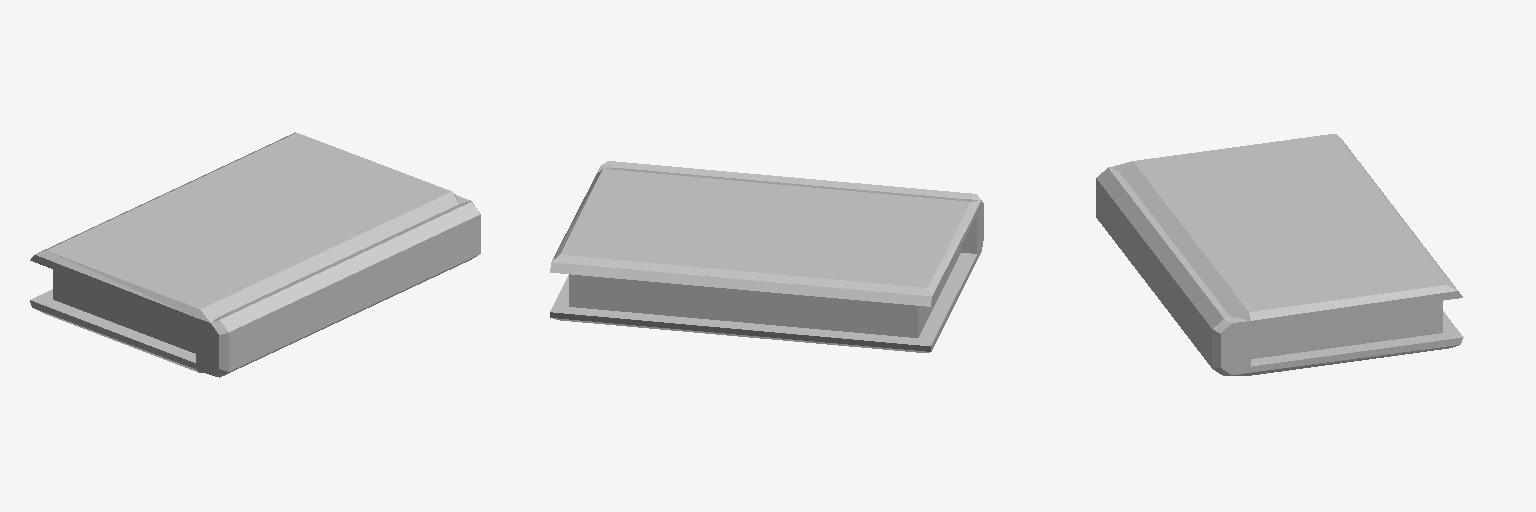
File: book.obj
3 views of the same model, side by side, from view 1: azimuth 30°, elevation 25°; view 2: azimuth 150°, elevation 25°; view 3: azimuth 270°, elevation 25° (orthographic).
Visible parts, largest first — view 1: book37 items; view 2: book37 items; view 3: book37 items.
Part boxes in pixels (bbox=[...]): book37 items: bbox=[30, 132, 480, 377]; book37 items: bbox=[550, 161, 983, 352]; book37 items: bbox=[1096, 134, 1463, 375].
Size of the model in its own units: 2.63 by 0.4112 by 2.15.